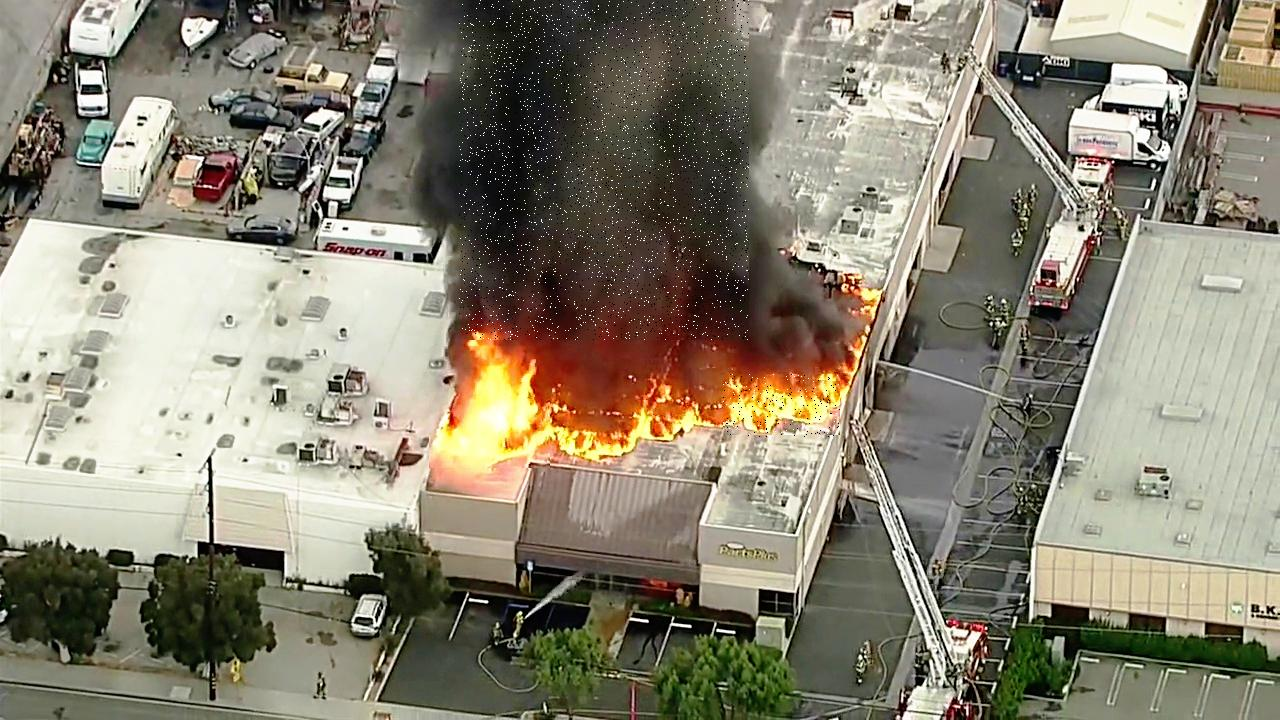fire: (429, 347, 550, 471), (723, 375, 840, 438)
smoke: (459, 0, 749, 340)
